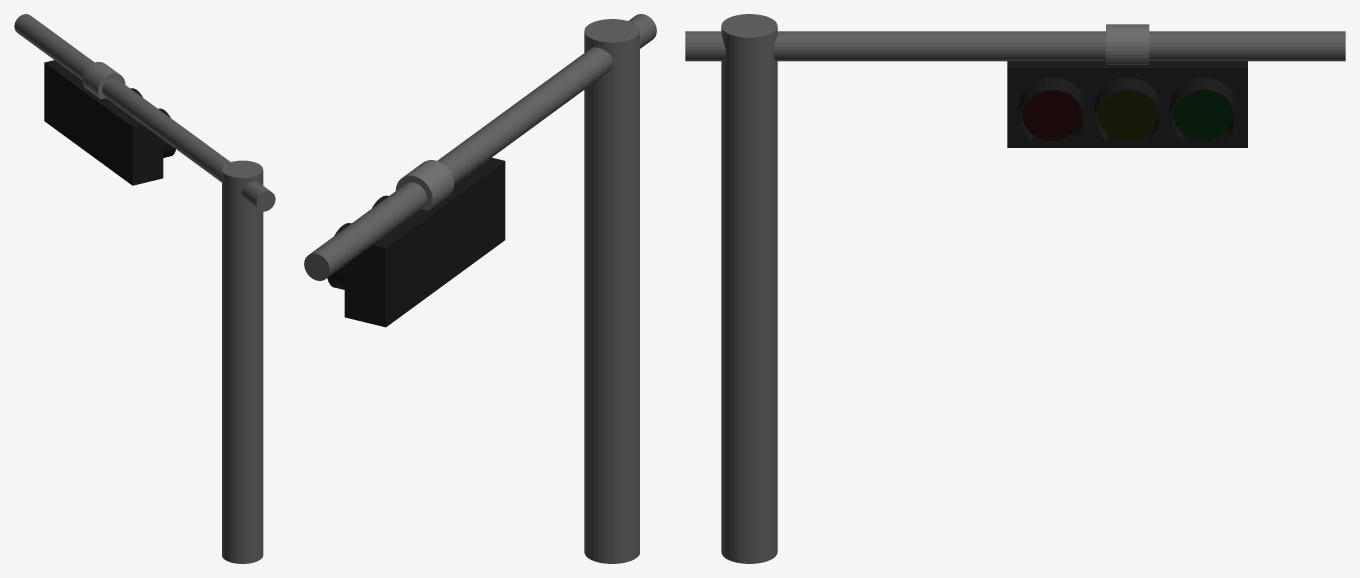
The model's file is trafficLight2.glb.
The picture shows the model from 3 angles, left to right: view 1: azimuth 30°, elevation 25°; view 2: azimuth 150°, elevation 25°; view 3: azimuth 270°, elevation 25°; orthographic projection. The views are drawn at different scales.
Visible parts, largest first — view 1: Cylinder.001, TrafficLight_Body; view 2: Cylinder.001, TrafficLight_Body; view 3: Cylinder.001, TrafficLight_Body, Light_Red, Light_Green, Light_Yellow.
Part boxes in pixels (box(x1,y1,x2,y2)): Cylinder.001: box(14, 14, 275, 563); TrafficLight_Body: box(44, 60, 175, 185); Cylinder.001: box(304, 14, 656, 563); TrafficLight_Body: box(327, 157, 505, 327); Cylinder.001: box(685, 14, 1345, 563); TrafficLight_Body: box(1007, 61, 1247, 147); Light_Red: box(1022, 91, 1081, 140); Light_Green: box(1173, 91, 1233, 140); Light_Yellow: box(1097, 91, 1157, 140).
Bounding box in the file's own units: 2.12 × 15.35 × 17.46.
